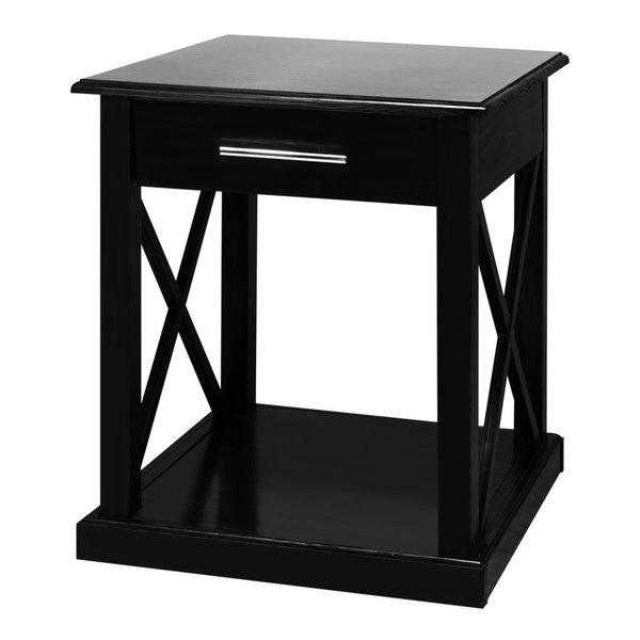obstacle: (71, 35, 567, 606)
